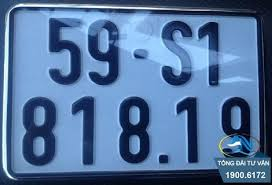Bien-so: (3, 4, 267, 181)
